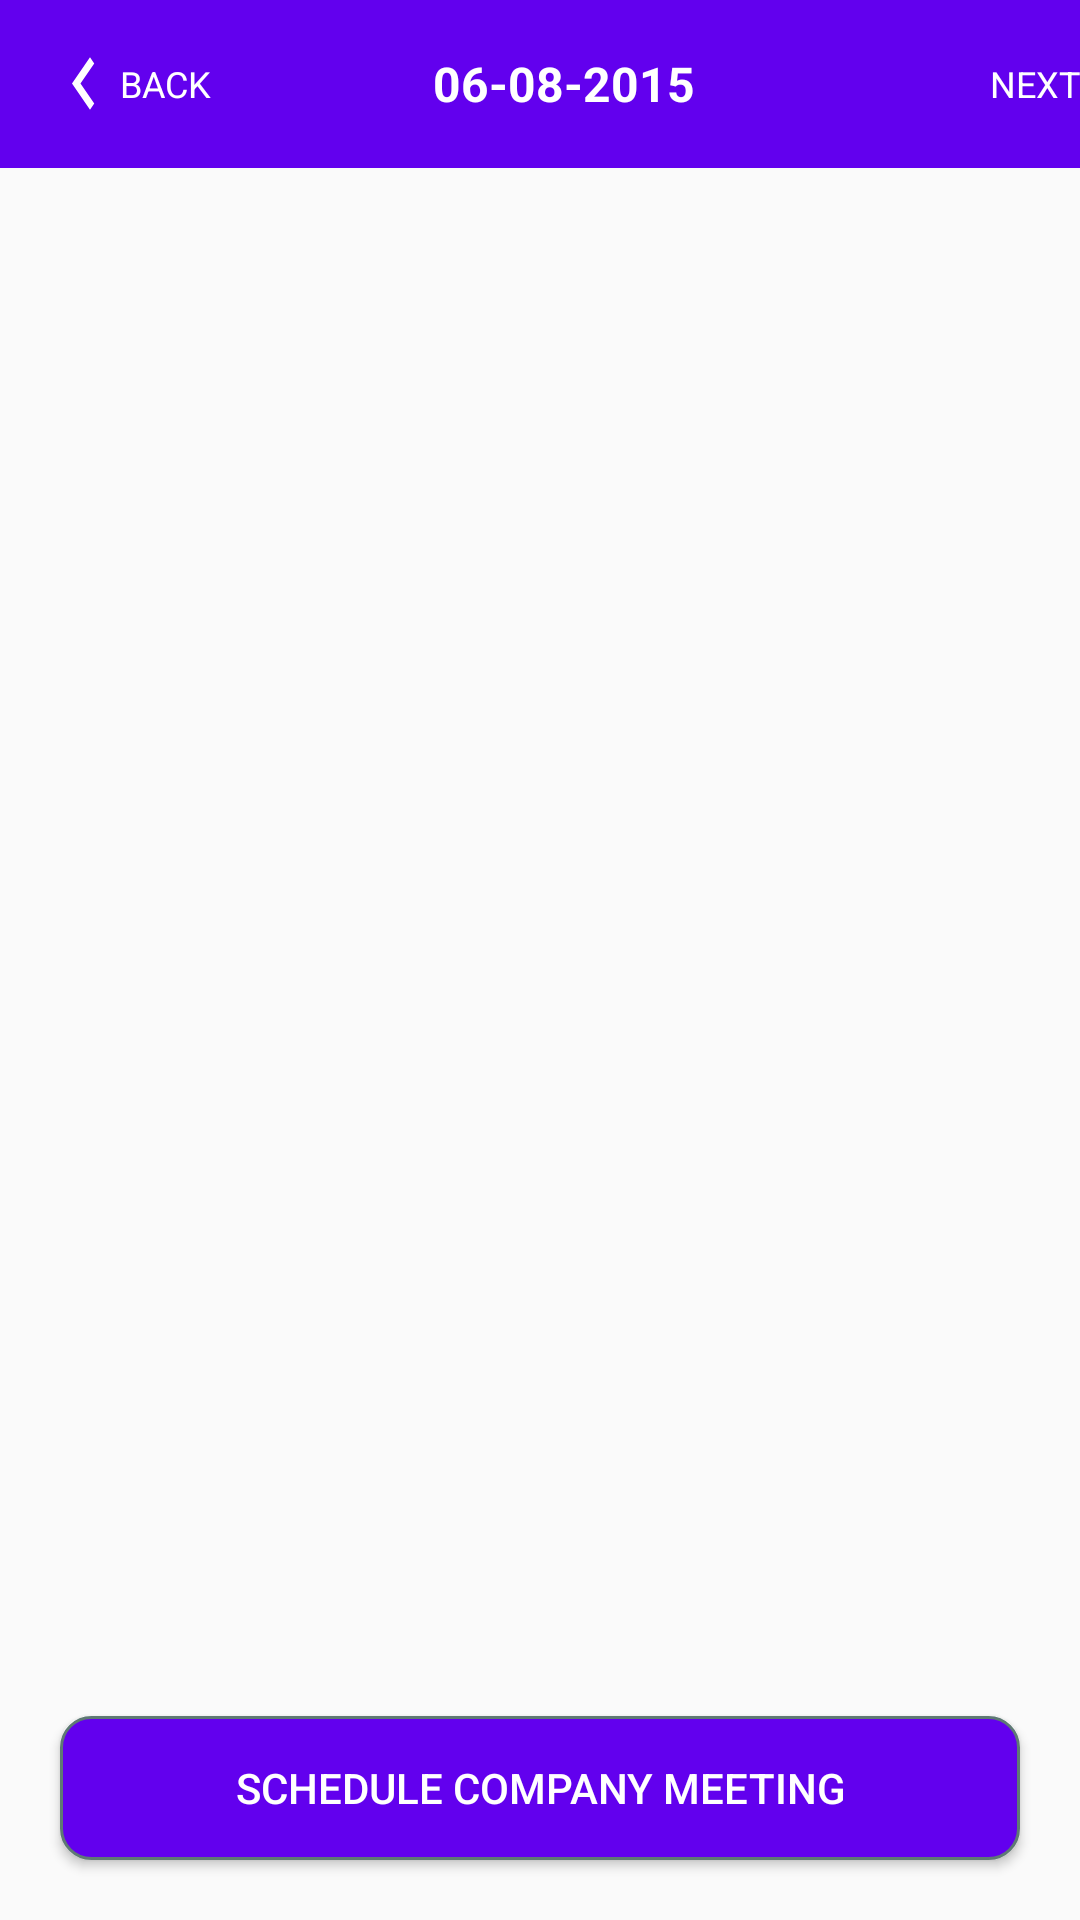

Named icons in this screenshot (1080 x 1920) and their centers, [x,y]:
left: [83,83]
